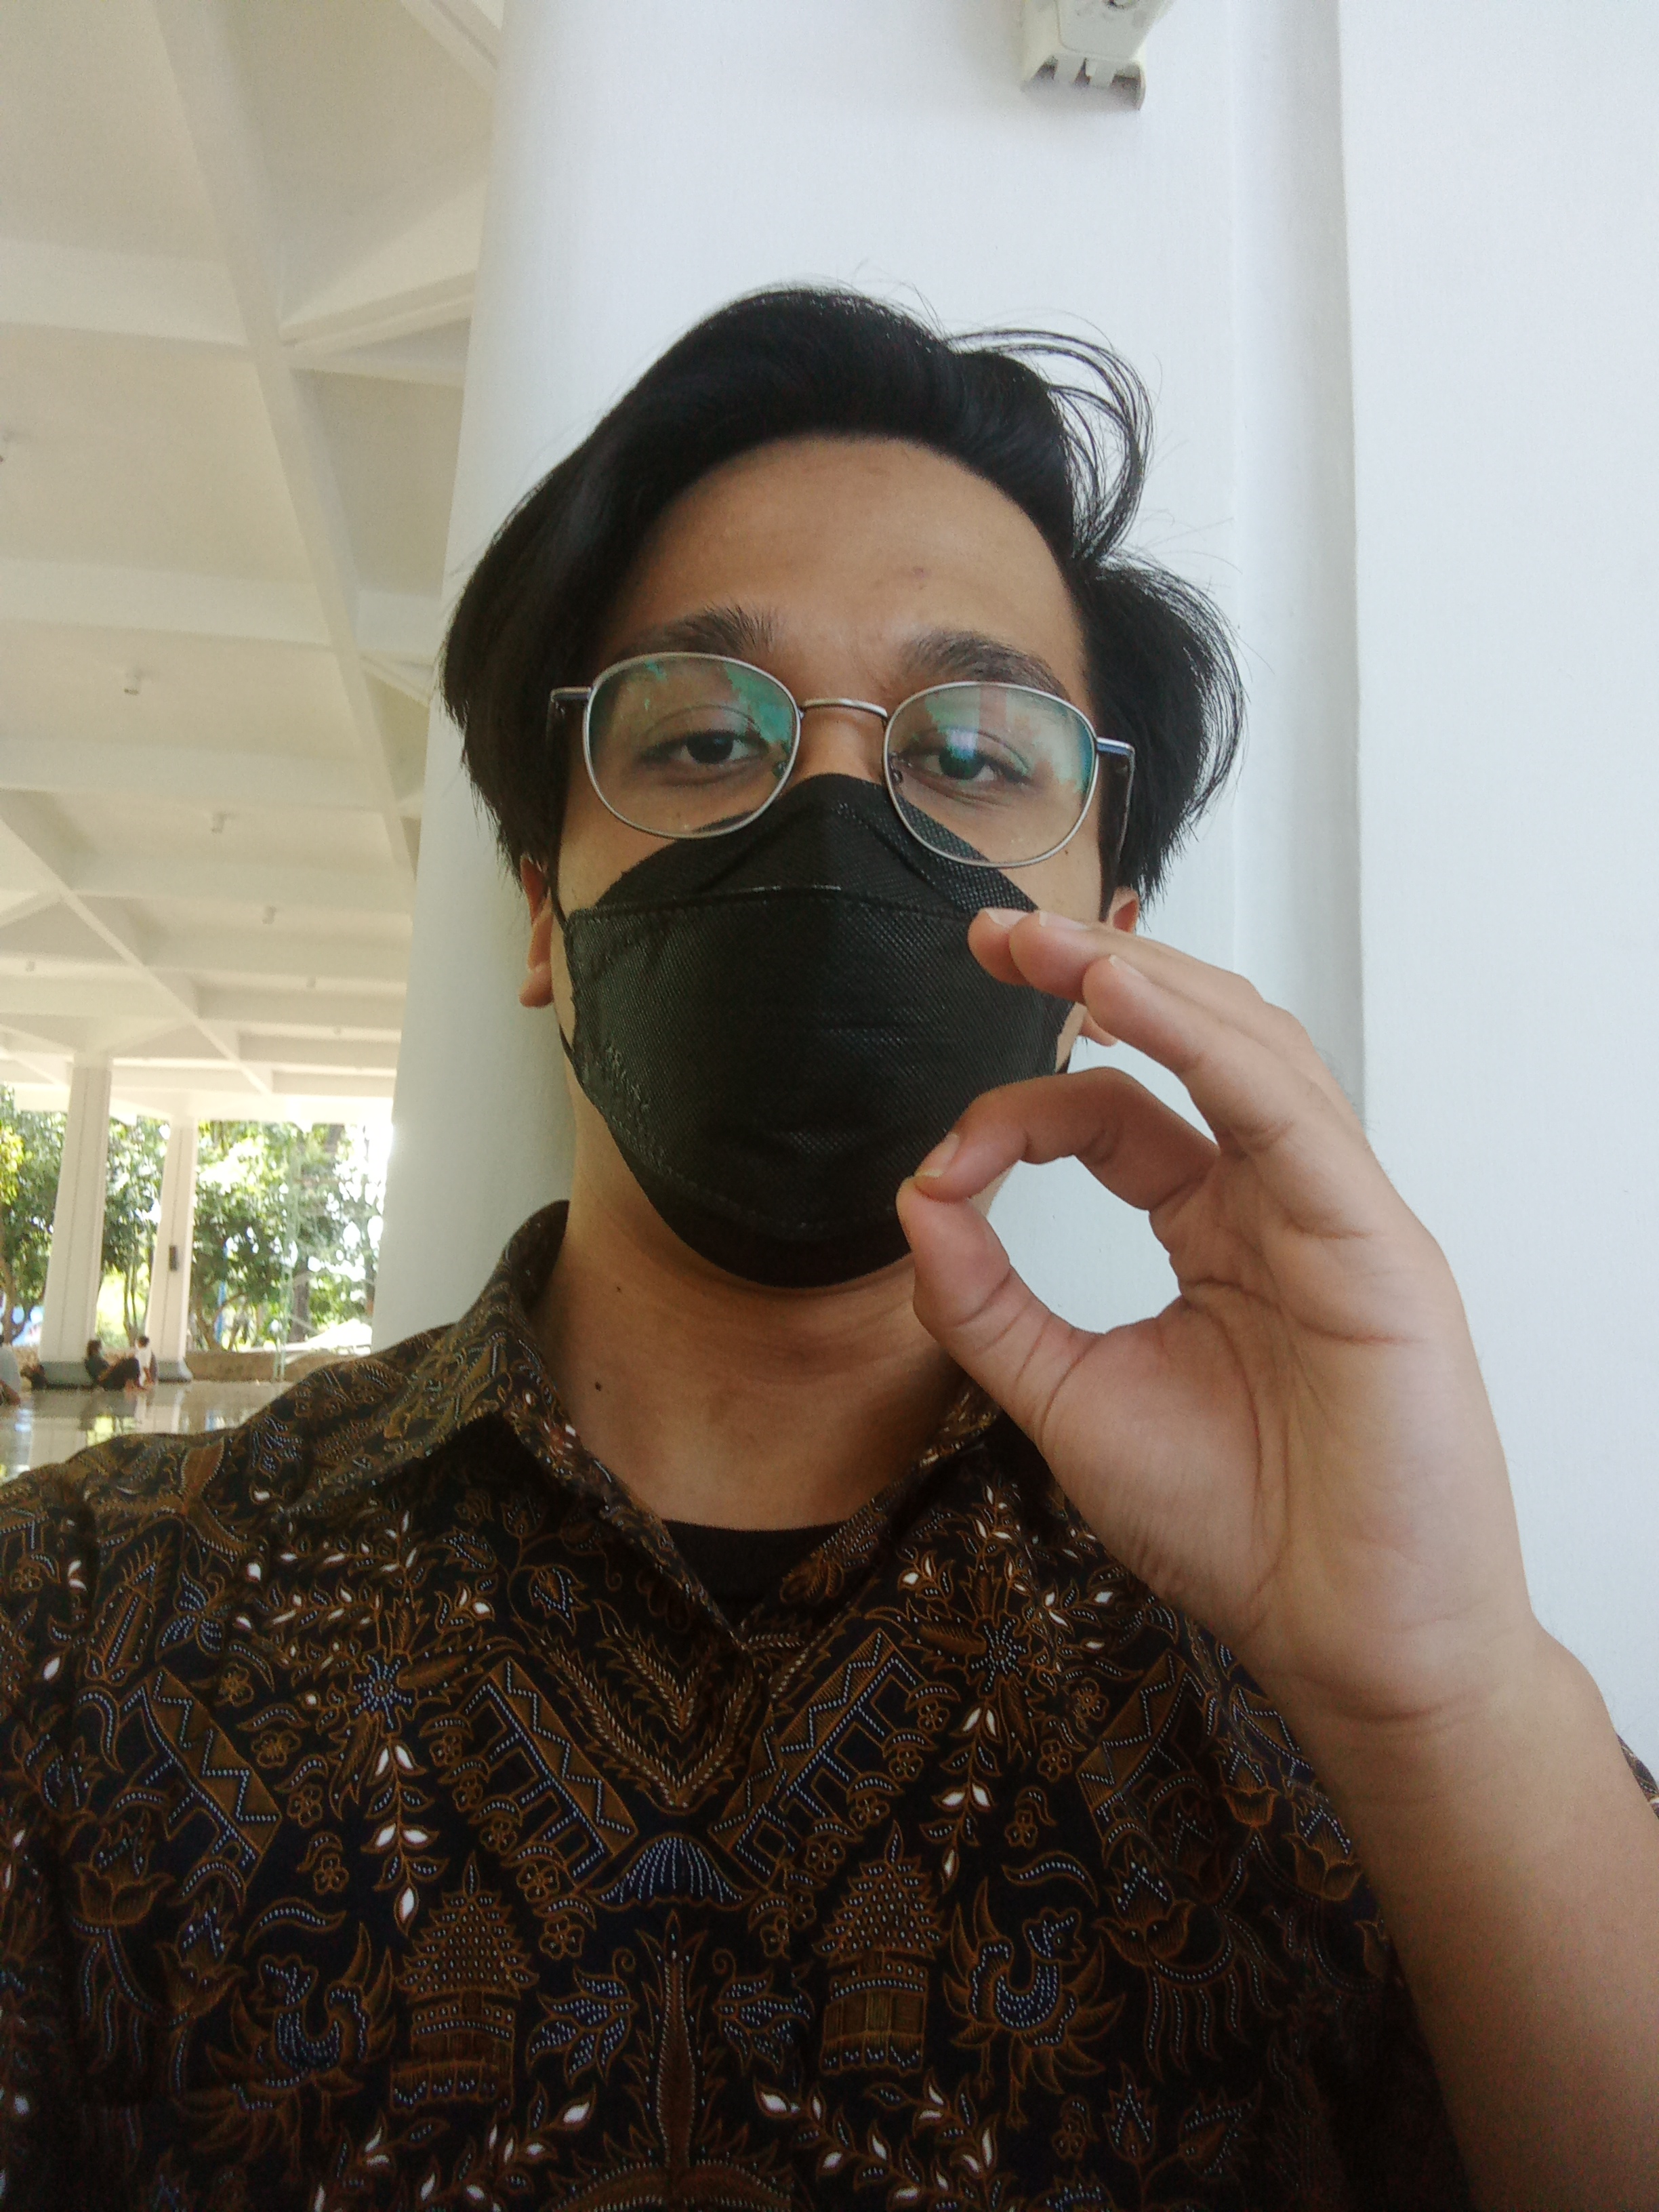O: (884, 874, 1619, 1745)
